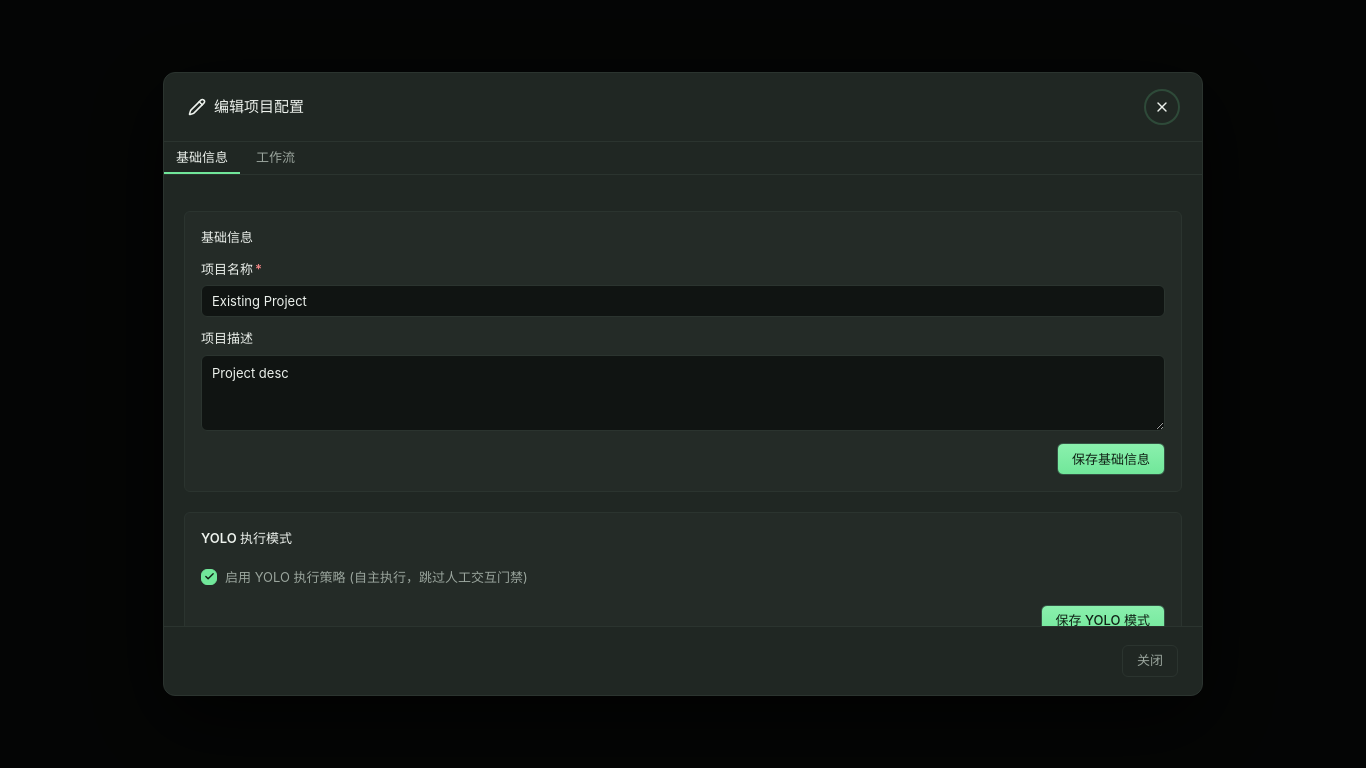
EditProjectModal › treats an unknown transport outcome as needing explicit recovery
Replace the text in the field labelled "项目名称 *" with "Offline Draft". click: (683, 301)
box: x1=201 y1=285 x2=1165 y2=317
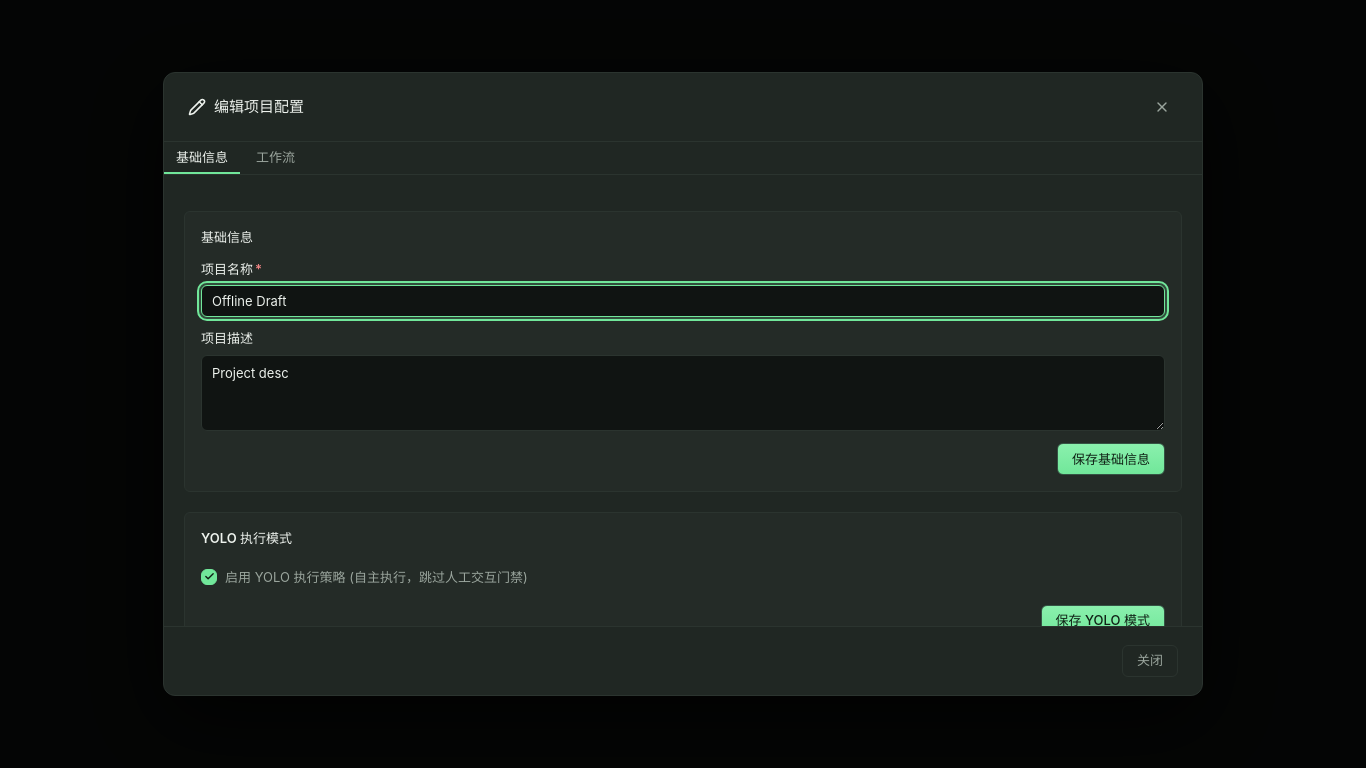
Click the button "保存基础信息". click: click(1111, 459)
box: x1=1057 y1=443 x2=1165 y2=475
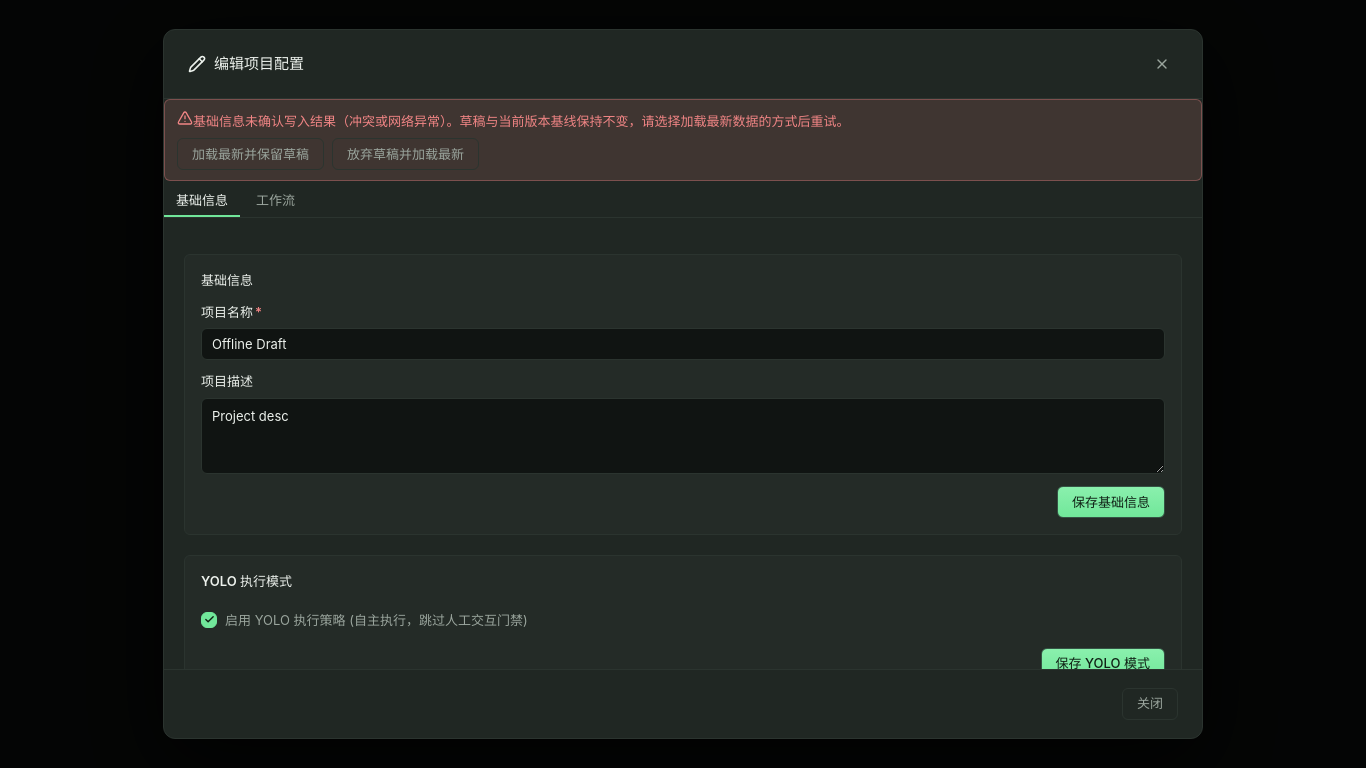
Check: the text "基础信息未确认写入结果（冲突或网络异常）。草稿与当前版本基线保持不变，请选择加载最新数据的方式后重试。" is shown, box x1=177 y1=110 x2=850 y2=129
